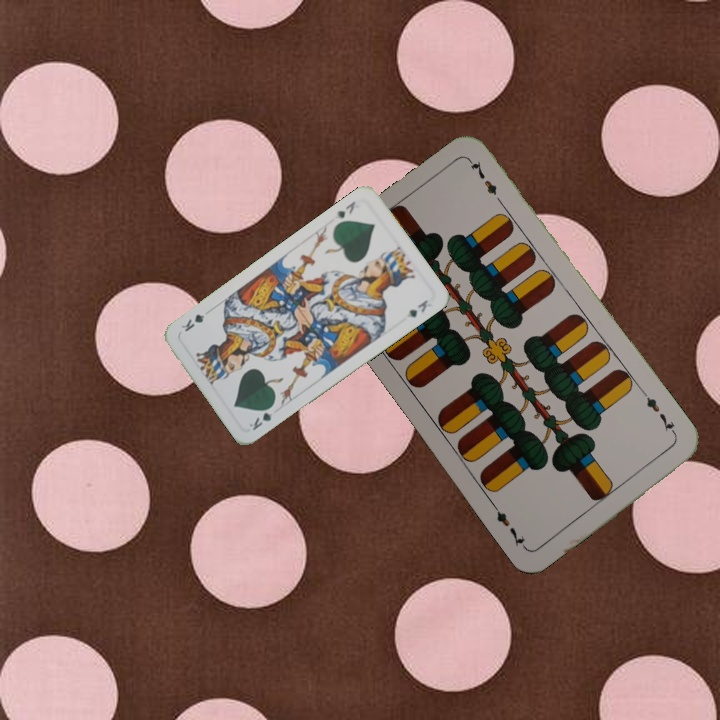E7: (640, 389, 680, 440)
GK: (245, 400, 277, 433), (333, 197, 358, 221)
